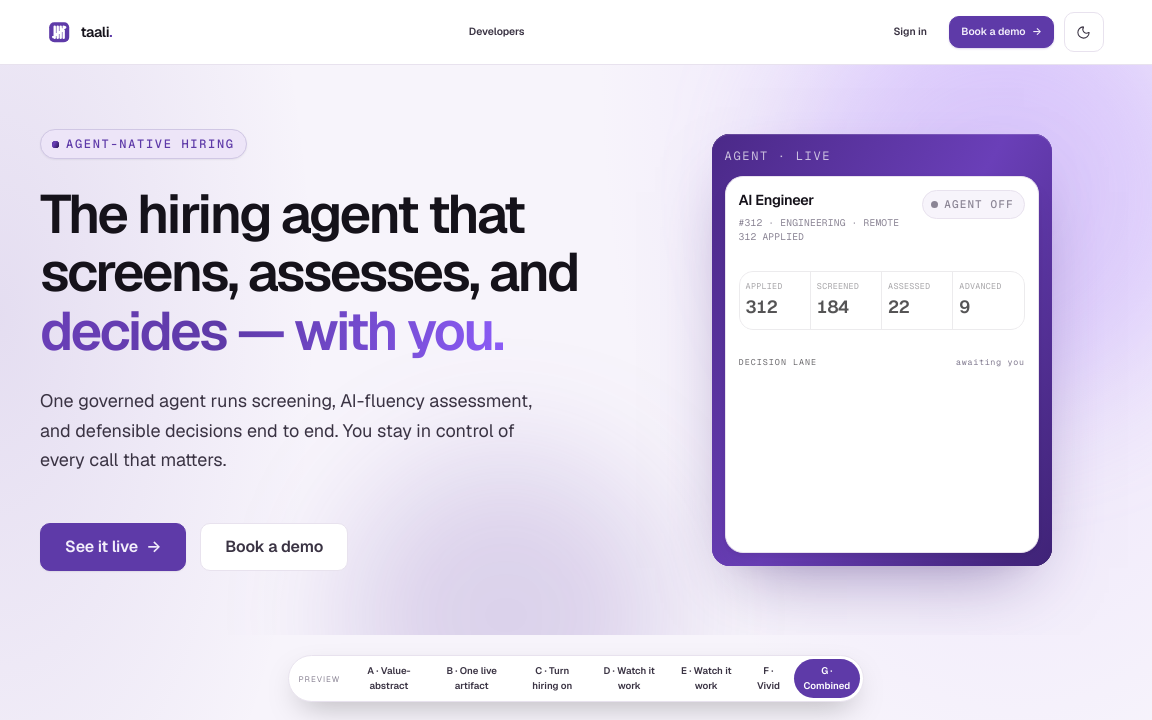
LandingPreviewPage › switches variants when a chip is clicked
Step 1. Click the button "B · One live artifact" → x=472, y=679, box [431, 659, 512, 698]
(page scrolled)
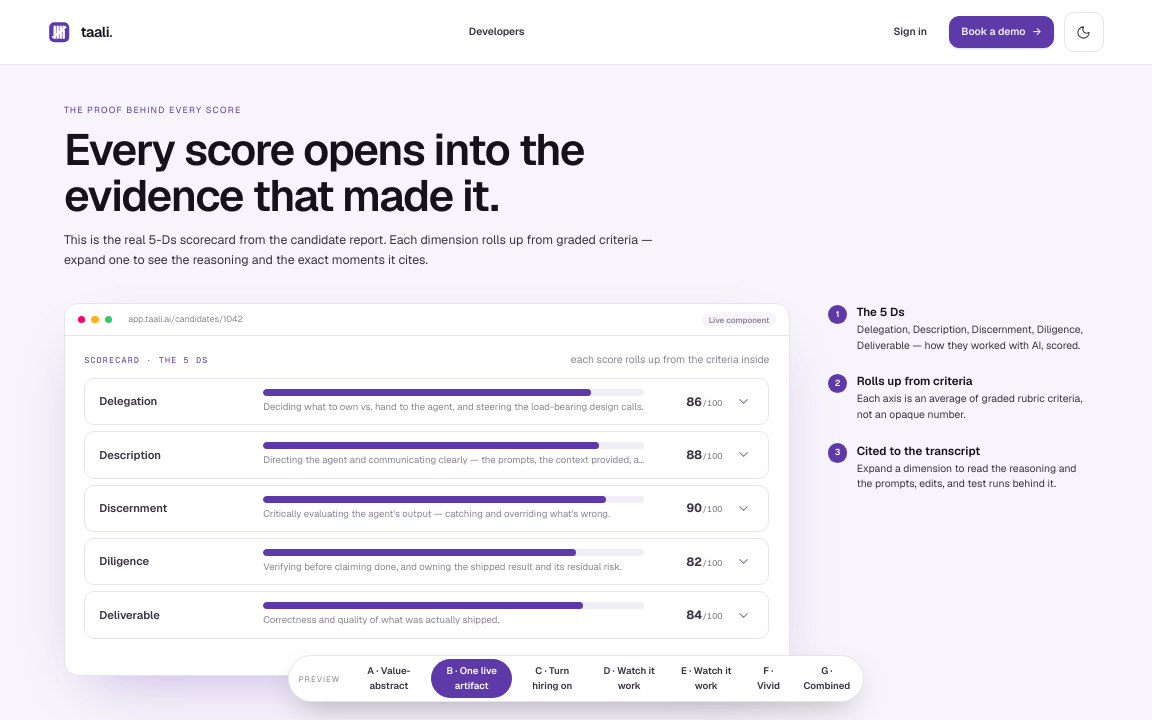
Expected: the text "SCORECARD · THE 5 Ds" is shown, [84, 354, 208, 367]
